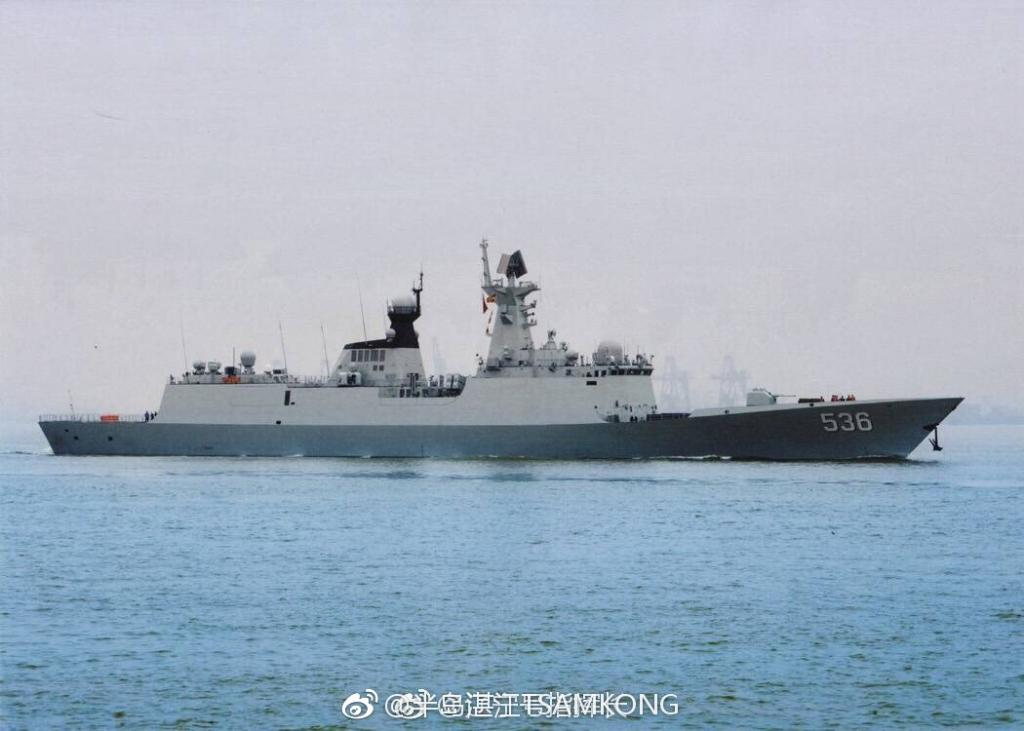Warship: (34, 232, 968, 470)
